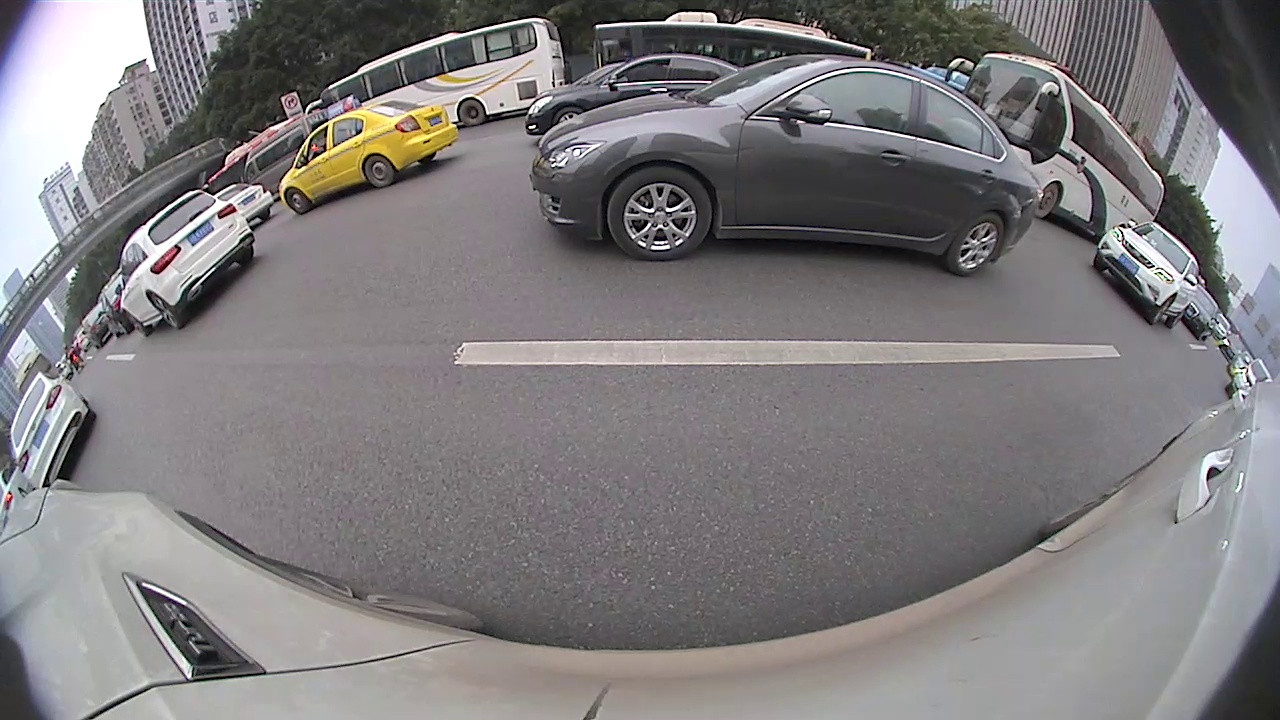bus: (945, 52, 1167, 237), (317, 19, 563, 127), (593, 7, 876, 79), (211, 107, 307, 186)
car: (528, 51, 1048, 278), (118, 183, 257, 333), (286, 98, 455, 215), (524, 53, 742, 140), (1091, 218, 1200, 319), (9, 372, 91, 493), (245, 111, 326, 188), (216, 182, 278, 225), (1182, 283, 1221, 351), (100, 273, 139, 335), (1229, 354, 1268, 404), (84, 300, 120, 346), (3, 463, 32, 518)
front: (604, 165, 712, 263), (1034, 184, 1059, 218), (1146, 295, 1175, 323), (126, 310, 153, 334), (285, 188, 308, 213)
rear: (950, 214, 1003, 276), (148, 293, 184, 326), (364, 157, 394, 186), (459, 100, 484, 126), (1166, 307, 1187, 327)
